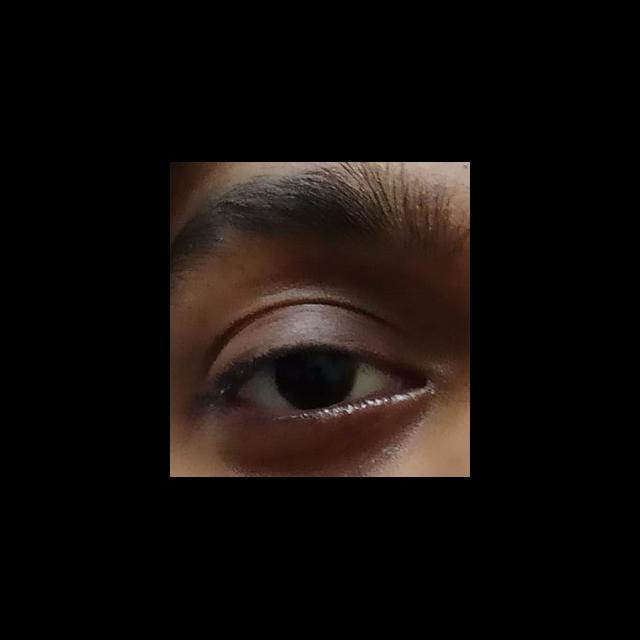eye: (235, 350, 403, 416)
iris: (275, 353, 358, 410)
